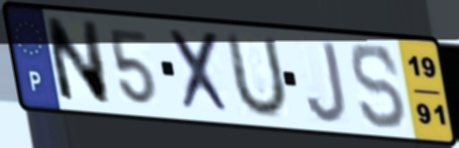5: (105, 27, 162, 107)
J: (303, 38, 350, 126)
N: (41, 15, 113, 108)
S: (348, 41, 410, 132)
U: (224, 29, 291, 121)
X: (166, 26, 236, 118)
